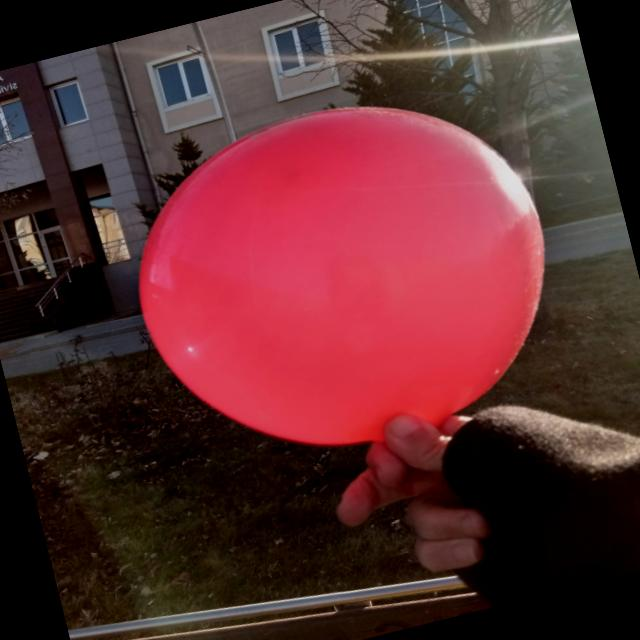balloon: (140, 107, 543, 444), (282, 235, 286, 242), (435, 245, 437, 248)
